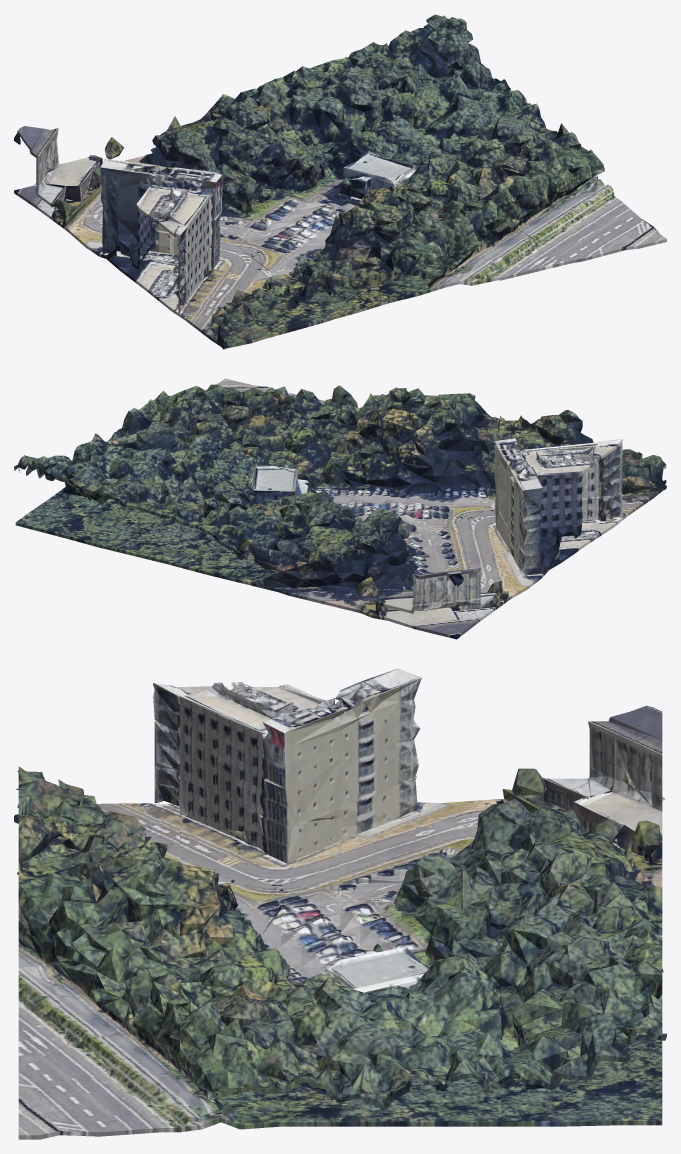
The model's file is Split26.fbx.
The picture shows the model from 3 angles, top to bottom: view 1: azimuth 30°, elevation 25°; view 2: azimuth 150°, elevation 25°; view 3: azimuth 270°, elevation 25°; orthographic projection. The views are drawn at different scales.
Visible parts, largest first — view 1: BuildingMesh-00057; view 2: BuildingMesh-00057; view 3: BuildingMesh-00057.
Part boxes in pixels (bbox=[...]): BuildingMesh-00057: bbox=[14, 14, 666, 349]; BuildingMesh-00057: bbox=[14, 378, 666, 639]; BuildingMesh-00057: bbox=[14, 668, 666, 1139].
Bounding box in the file's own units: 196 × 38.44 × 162.
Materials: 6 (6 with a texture image).
